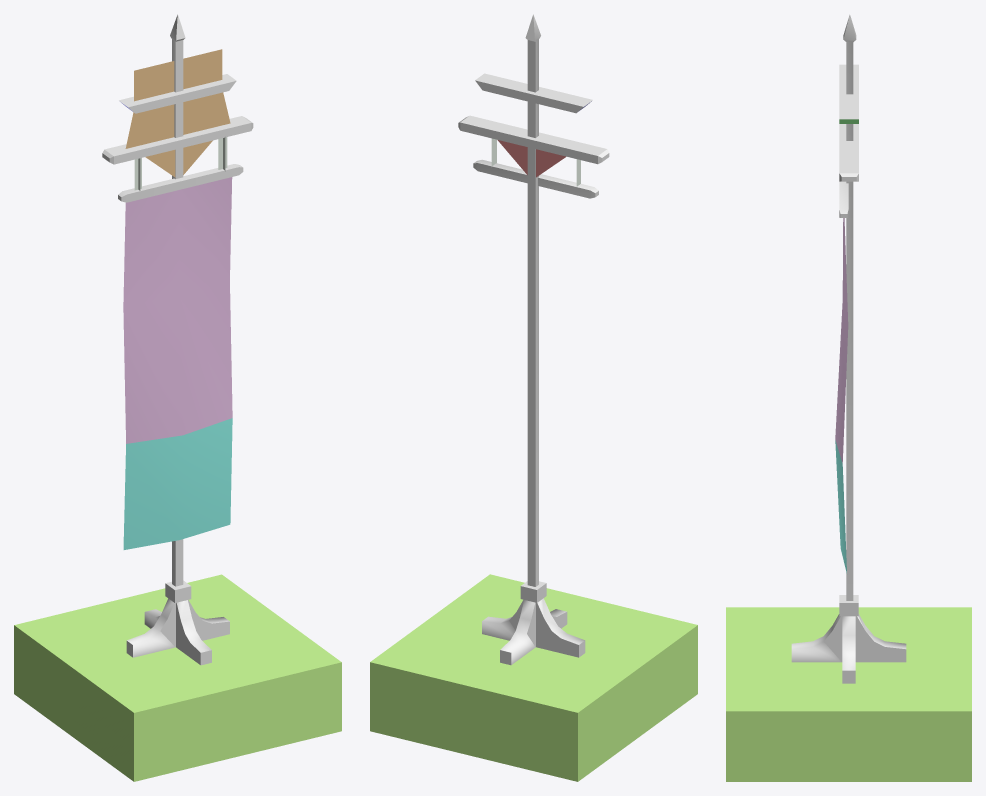
The model's file is Oren_Delf_altar__Delf_altar_frag.gltf.
3 renders of one model, left to right at view 1: azimuth 30°, elevation 25°; view 2: azimuth 150°, elevation 25°; view 3: azimuth 270°, elevation 25°, orthographic. The views are drawn at different scales.
Parts seen in each view (by area): view 1: Delf_altar_frag; view 2: Delf_altar_frag; view 3: Delf_altar_frag.
Boxes of the visible parts, bbox=[...] form: Delf_altar_frag: bbox=[14, 14, 341, 781]; Delf_altar_frag: bbox=[370, 14, 697, 781]; Delf_altar_frag: bbox=[726, 14, 971, 781].
Size of the model in its own units: 1.01 by 3.24 by 1.01.
